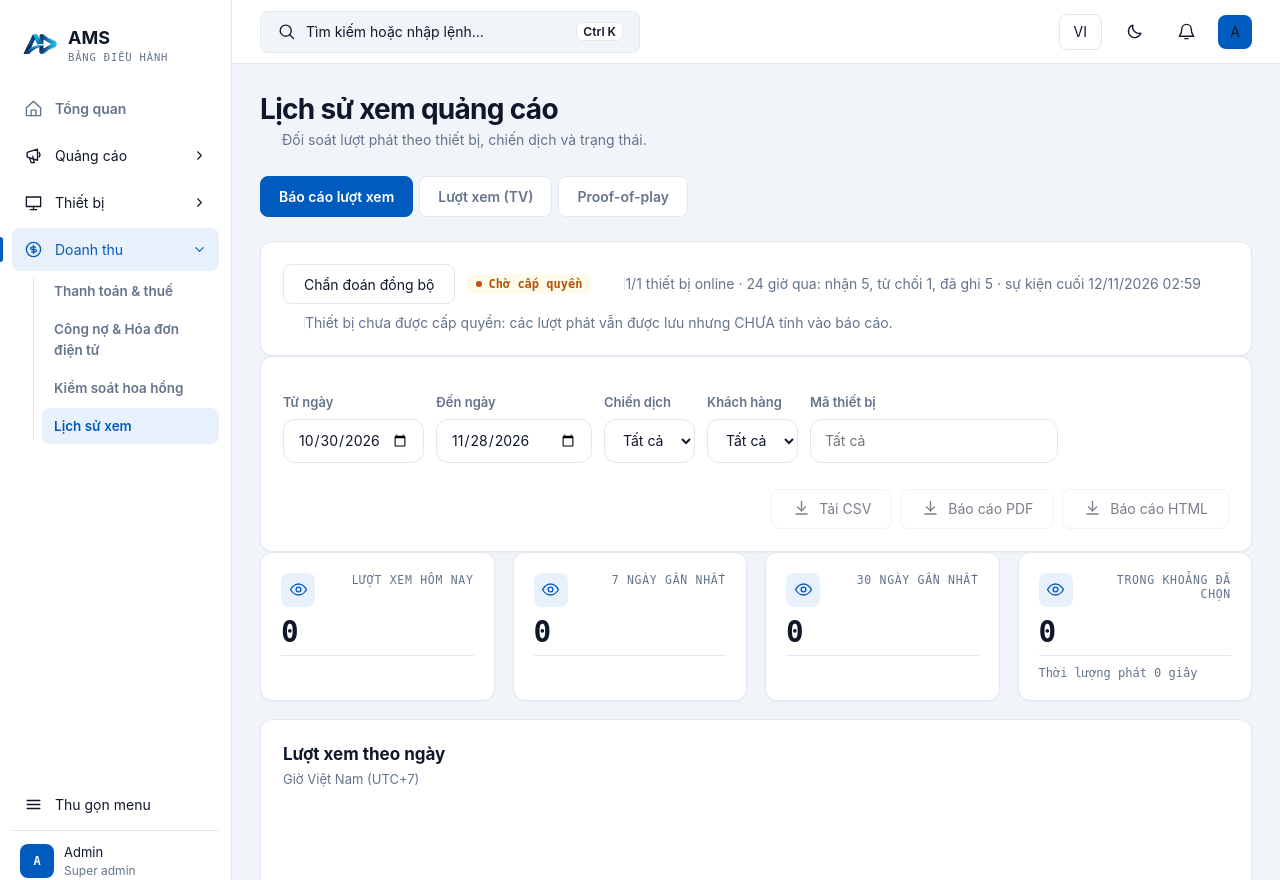
Test case: bao cao luot xem › admin /history: tab Bao cao mac dinh + chip "Chan doan dong bo" giai thich vi sao 0, mo ra bang theo thiet bi
Expected: the text "CHƯA tính vào báo cáo" is shown, [305, 314, 893, 331]
Step 1. Click the button "Chẩn đoán đồng bộ" → {"x": 369, "y": 284}, box [283, 264, 456, 304]
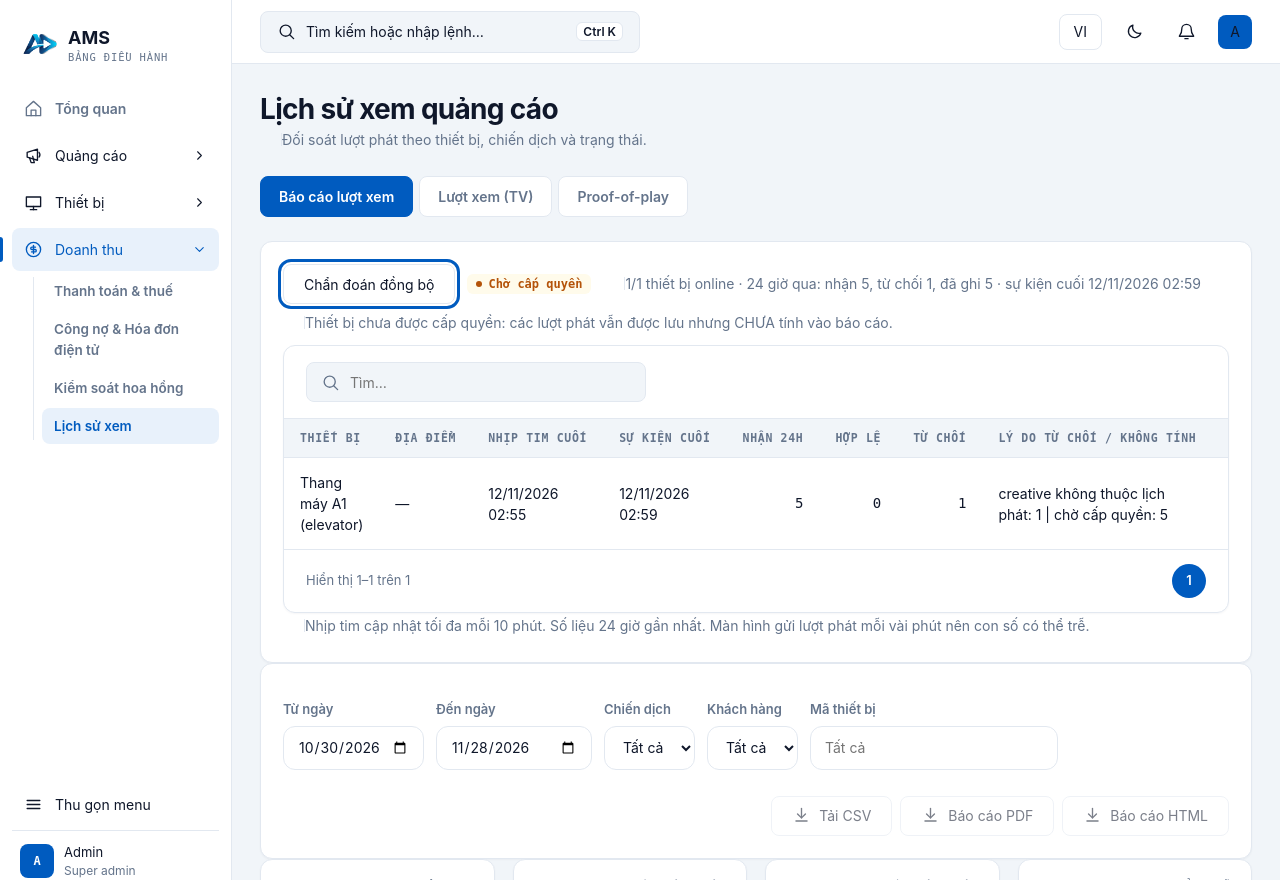
Expected: the text "Thang máy A1 (elevator)" is shown, [284, 458, 379, 549]
Expected: the text "creative không thuộc lịch phát: 1 | chờ cấp quyền: 5" is shown, [982, 458, 1212, 549]
